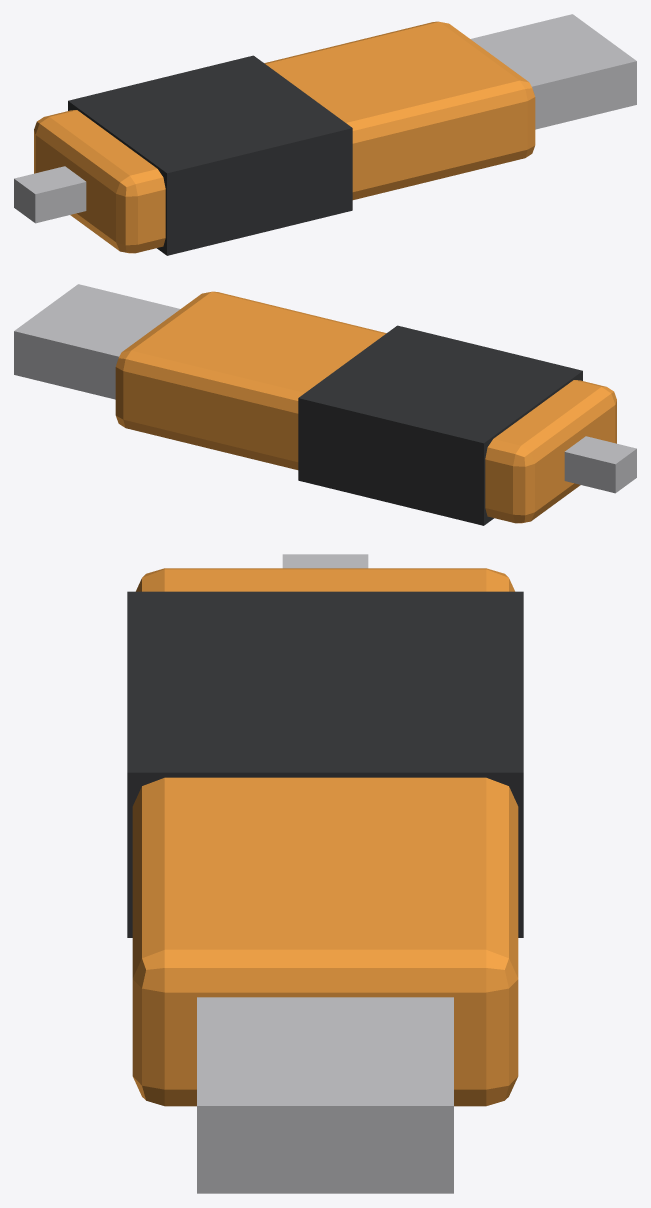
Rendered from ROOT_AE3_UsbStick.fbx.
The picture shows the model from 3 angles, top to bottom: view 1: azimuth 30°, elevation 25°; view 2: azimuth 150°, elevation 25°; view 3: azimuth 270°, elevation 25°; orthographic projection. The views are drawn at different scales.
Visible parts, largest first — view 1: ROOT_AE3_UsbStick_LOD0; view 2: ROOT_AE3_UsbStick_LOD0; view 3: ROOT_AE3_UsbStick_LOD0.
Boxes of the visible parts, left/top/right/bottom form: ROOT_AE3_UsbStick_LOD0: left=14, top=14, right=636, bottom=255; ROOT_AE3_UsbStick_LOD0: left=14, top=284, right=636, bottom=525; ROOT_AE3_UsbStick_LOD0: left=127, top=554, right=523, bottom=1193.
Size of what is drawn, in the model's own units: 6.25 by 0.85 by 1.85.
